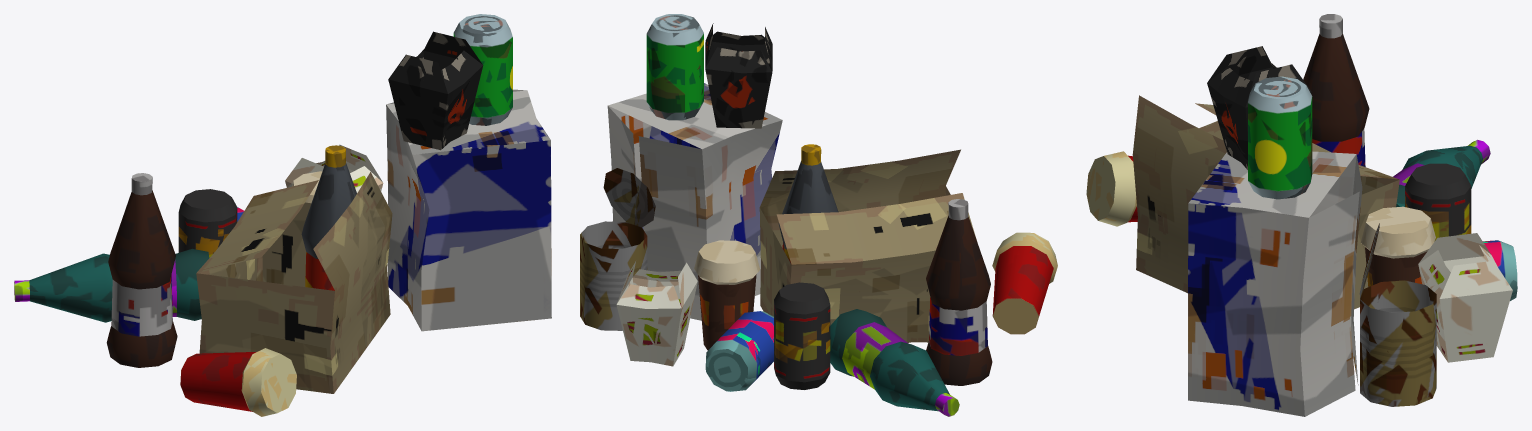
Rendered from Litter_art.fbx.
The picture shows the model from 3 angles, left to right: view 1: azimuth 30°, elevation 25°; view 2: azimuth 150°, elevation 25°; view 3: azimuth 270°, elevation 25°; orthographic projection. The views are drawn at different scales.
Parts seen in each view (by area): view 1: Cube, Cube.001, Cylinder.001, Cube.003, Cylinder.009, Cylinder.008, Cylinder.006, Cylinder.004, Cylinder, Cube.002; view 2: Cube.001, Cube, Cylinder.001, Cylinder.002, Cylinder.008, Cube.002, Cube.003, Cylinder.006, Cylinder, Cylinder.009, Cylinder.003, Cylinder.005 (+1 smaller); view 3: Cube, Cube.001, Cylinder.002, Cube.002, Cylinder.006, Cylinder.001, Cube.003, Cylinder.003, Cylinder, Cylinder.009, Cylinder.008, Cylinder.005.
Boxes of the visible parts, x1,y1,x2,y2 form: Cube: [386, 89, 551, 331]; Cube.001: [196, 172, 392, 393]; Cylinder.001: [106, 173, 177, 367]; Cube.003: [388, 31, 483, 150]; Cylinder.009: [180, 348, 296, 416]; Cylinder.008: [14, 248, 209, 322]; Cylinder.006: [453, 14, 512, 125]; Cylinder.004: [301, 145, 356, 290]; Cylinder: [178, 189, 237, 257]; Cube.002: [285, 144, 383, 192]; Cube.001: [759, 149, 976, 342]; Cube: [607, 83, 782, 320]; Cylinder.001: [926, 199, 992, 385]; Cylinder.002: [580, 168, 655, 330]; Cylinder.008: [830, 309, 959, 416]; Cube.002: [616, 261, 697, 366]; Cube.003: [705, 23, 772, 128]; Cylinder.006: [646, 14, 703, 120]; Cylinder: [774, 282, 830, 389]; Cylinder.009: [992, 232, 1057, 334]; Cylinder.003: [694, 240, 760, 350]; Cylinder.005: [705, 311, 773, 391]; Cube: [1188, 151, 1362, 416]; Cube.001: [1132, 95, 1399, 309]; Cylinder.002: [1359, 223, 1436, 406]; Cube.002: [1418, 233, 1512, 362]; Cylinder.006: [1248, 76, 1312, 199]; Cylinder.001: [1303, 14, 1369, 166]; Cube.003: [1207, 46, 1311, 169]; Cylinder.003: [1360, 206, 1435, 286]; Cylinder: [1405, 163, 1471, 241]; Cylinder.009: [1086, 151, 1137, 226]; Cylinder.008: [1393, 139, 1490, 207]; Cylinder.005: [1483, 240, 1517, 300].
Size of the model in its own units: 131 by 77.39 by 101.
